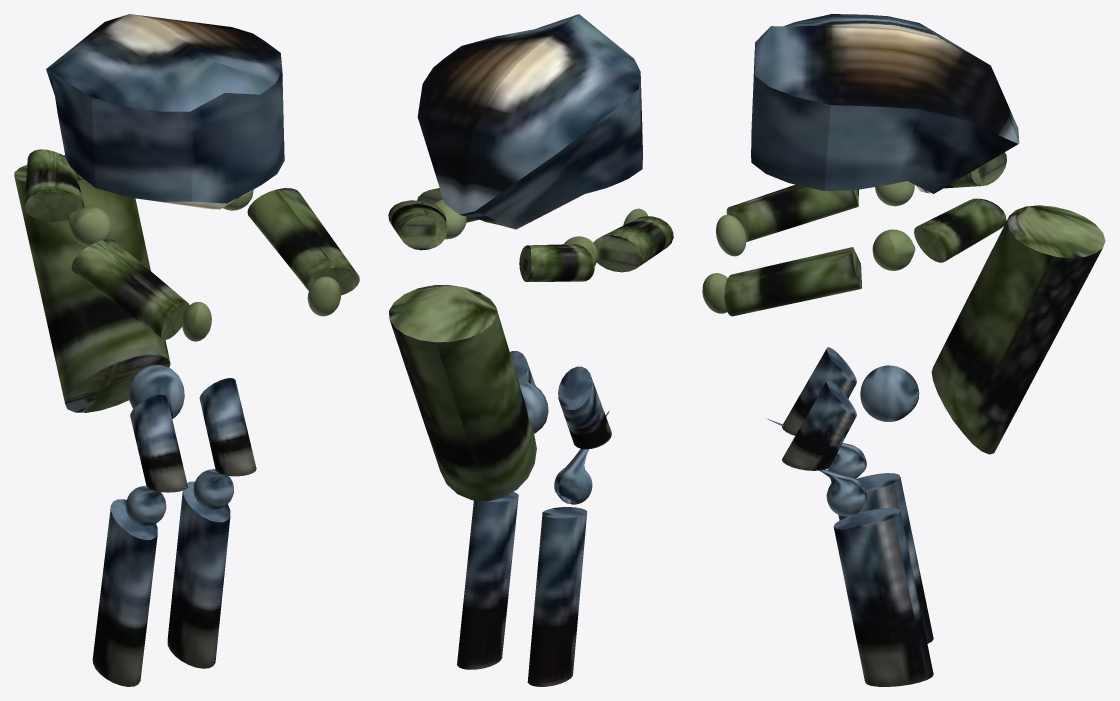
Rendered from skellySleep.fbx.
3 views of the same model, side by side, from view 1: azimuth 30°, elevation 25°; view 2: azimuth 150°, elevation 25°; view 3: azimuth 270°, elevation 25° (orthographic). The views are drawn at different scales.
Visible parts, largest first — view 1: skeletontriangulated:Body1; view 2: skeletontriangulated:Body1; view 3: skeletontriangulated:Body1.
Part boxes in pixels (x1,y1,x2,y2): skeletontriangulated:Body1: (14, 14, 359, 686); skeletontriangulated:Body1: (388, 14, 673, 686); skeletontriangulated:Body1: (702, 14, 1105, 686).
Bounding box in the file's own units: 6.28 × 16.65 × 9.55.
1 material, 1 textured.
